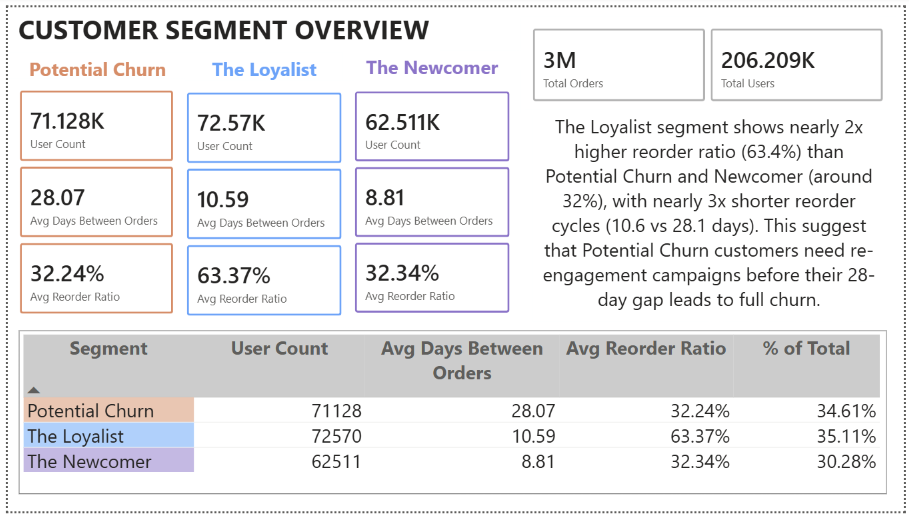

The page's visual inventory and layout, read from the dashboard file:
{"tool":"powerbi","page":{"name":"Page 1","canvas":[1280,720],"ordinal":0},"visuals":[{"type":"textbox","box":[239.1,64.5,255.5,47.3],"z":0},{"type":"tableEx","fields":{"Values":["customer_segment_overview.segment","CountNonNull(customer_segment_overview.user_id)","Avg(customer_segment_overview.average_day_between_orders)","Avg(customer_segment_overview.reorder_ratio)","customer_segment_overview.% of Total"]},"box":[16,462,1240,234],"z":1000},{"type":"textbox","box":[0.9,64.5,253.6,47.3],"z":2000},{"type":"textbox","box":[478.3,61.7,255,45.8],"z":3000},{"type":"textbox","box":[0,0,617.1,64.3],"z":4000},{"type":"textbox","box":[750,145,503.3,303.3],"z":5000},{"type":"cardVisual","fields":{"Data":["Sum(customer_segment_overview.total_orders)","CountNonNull(customer_segment_overview.user_id)"]},"box":[733.3,13.3,535,138.3],"z":6000},{"type":"cardVisual","fields":{"Data":["CountNonNull(customer_segment_overview.user_id)","Avg(customer_segment_overview.average_day_between_orders)","Avg(customer_segment_overview.reorder_ratio)"]},"box":[239.1,103.6,255.5,353.6],"z":7000},{"type":"cardVisual","fields":{"Data":["CountNonNull(customer_segment_overview.user_id)","Avg(customer_segment_overview.average_day_between_orders)","Avg(customer_segment_overview.reorder_ratio)"]},"box":[0,101.8,253.6,354.5],"z":8000},{"type":"cardVisual","fields":{"Data":["CountNonNull(customer_segment_overview.user_id)","Avg(customer_segment_overview.average_day_between_orders)","Avg(customer_segment_overview.reorder_ratio)"]},"box":[478.3,103.3,255,351.7],"z":9000}]}

Visuals, with their boxes in screenshot pixels (x1, y1, x2, y2), scaled from the page's 1280x720 canvas onto the 910x520 screenshot:
textbox: rect(170, 47, 352, 81)
tableEx - customer_segment_overview.segment x CountNonNull(customer_segment_overview.user_id): rect(11, 334, 893, 503)
textbox: rect(1, 47, 181, 81)
textbox: rect(340, 45, 521, 78)
textbox: rect(0, 0, 439, 46)
textbox: rect(533, 105, 891, 324)
cardVisual - Sum(customer_segment_overview.total_orders) x CountNonNull(customer_segment_overview.user_id): rect(521, 10, 902, 109)
cardVisual - CountNonNull(customer_segment_overview.user_id) x Avg(customer_segment_overview.average_day_between_orders): rect(170, 75, 352, 330)
cardVisual - CountNonNull(customer_segment_overview.user_id) x Avg(customer_segment_overview.average_day_between_orders): rect(0, 74, 180, 330)
cardVisual - CountNonNull(customer_segment_overview.user_id) x Avg(customer_segment_overview.average_day_between_orders): rect(340, 75, 521, 329)
